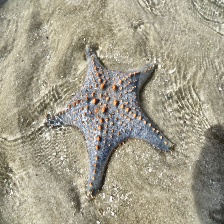starfish: (43, 46, 176, 200)
